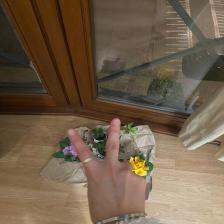two: (64, 117, 160, 223)
